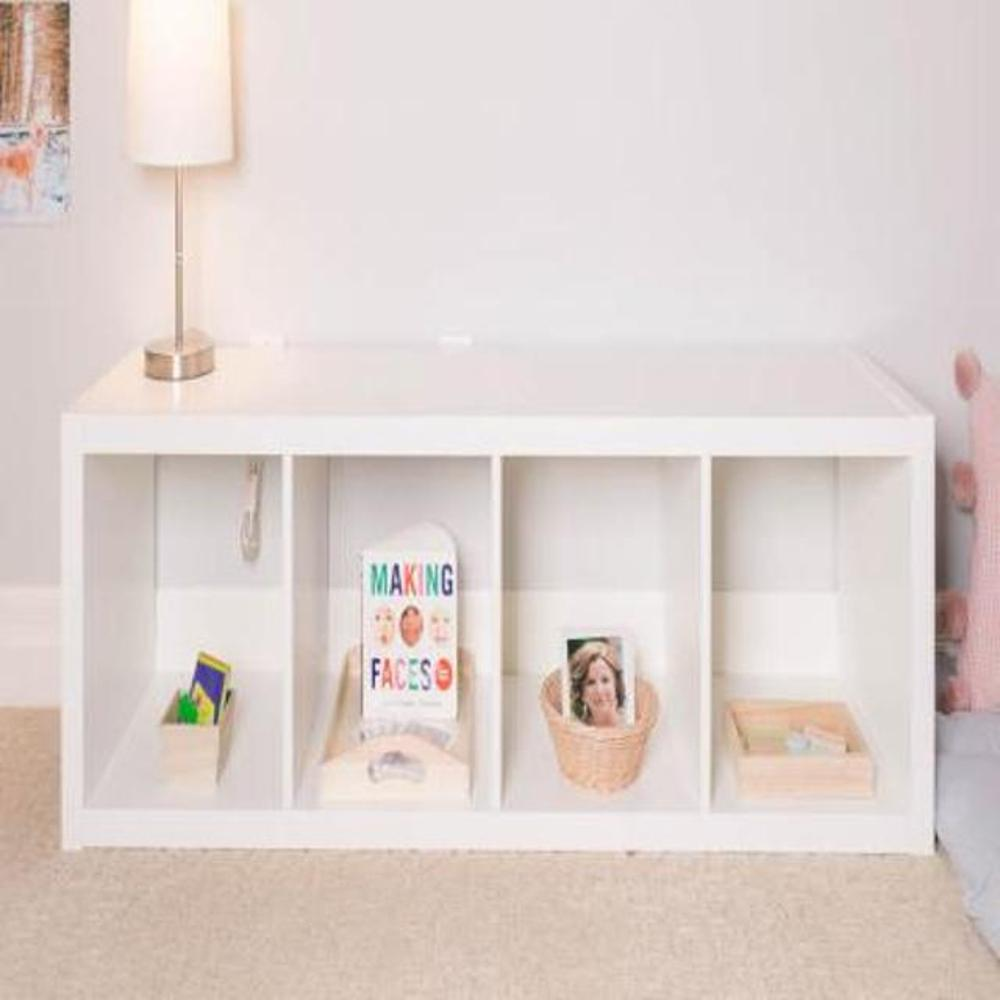lamp: (59, 335, 936, 859)
